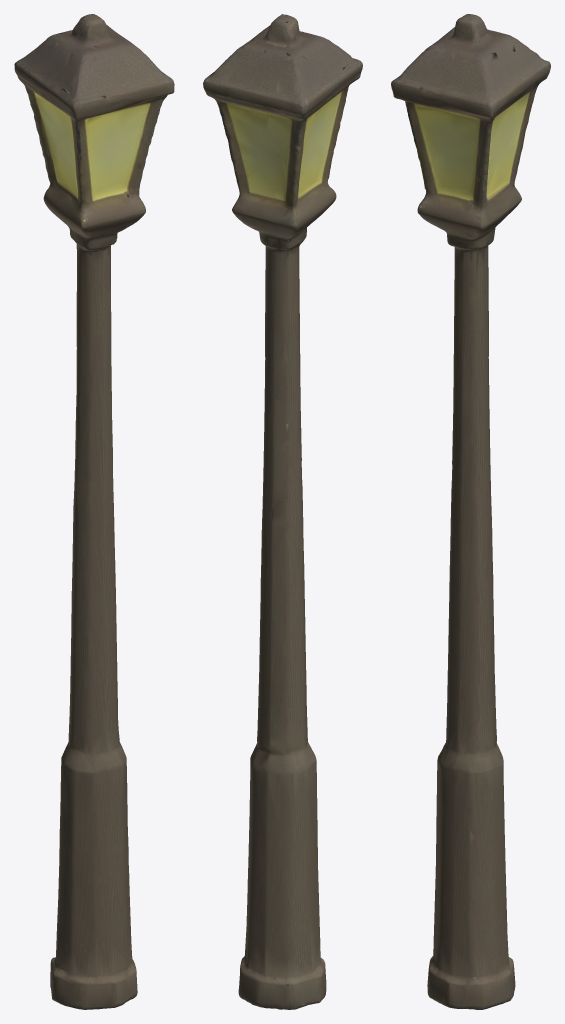
The model's file is lamp-post.glb.
3 renders of one model, left to right at view 1: azimuth 30°, elevation 25°; view 2: azimuth 150°, elevation 25°; view 3: azimuth 330°, elevation 25°, orthographic.
Bounding box in the file's own units: 0.4168 × 3.79 × 0.4284.
Materials: 1 (1 with a texture image).
